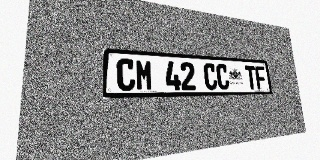2: (180, 62, 196, 90)
4: (165, 61, 181, 90)
C: (117, 58, 135, 91), (203, 63, 218, 90), (216, 64, 230, 90)
F: (255, 66, 267, 89)
M: (135, 59, 153, 91)
T: (245, 65, 257, 89)
